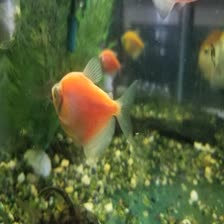Plano: (35, 65, 143, 154)
